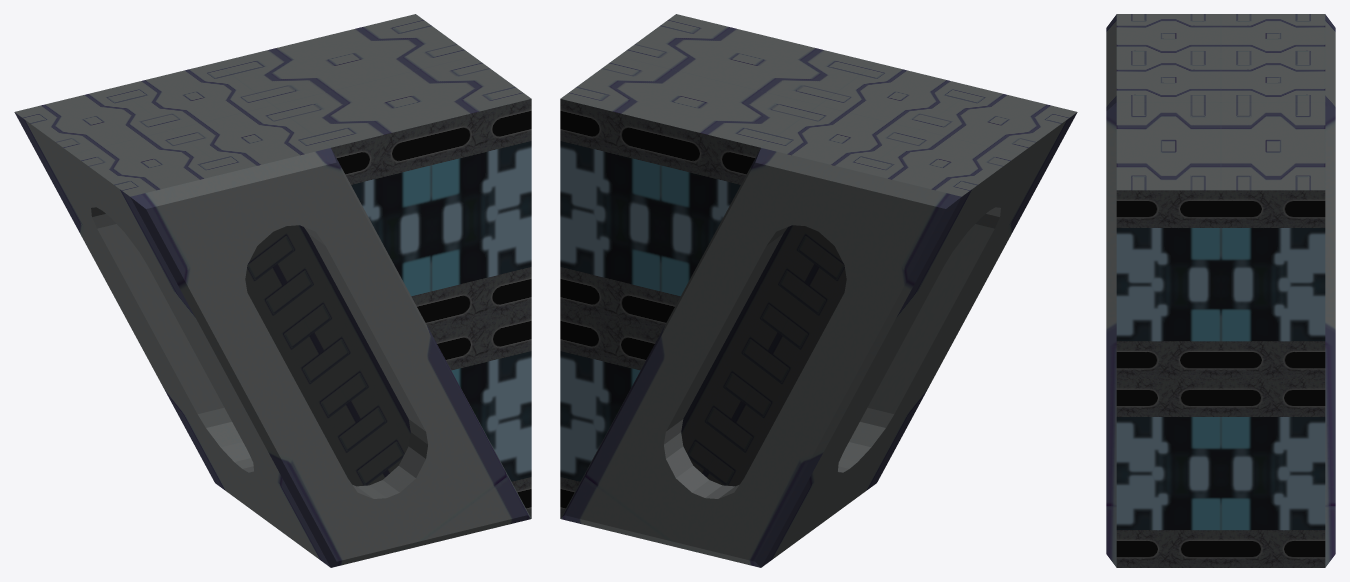
File: tiles_prison_door_frame_right_1.glb
The picture shows the model from 3 angles, left to right: view 1: azimuth 30°, elevation 25°; view 2: azimuth 150°, elevation 25°; view 3: azimuth 270°, elevation 25°; orthographic projection. The views are drawn at different scales.
Parts seen in each view (by area): view 1: PrisonDoorArchRight1; view 2: PrisonDoorArchRight1; view 3: PrisonDoorArchRight1.
Part boxes in pixels (x1,y1,x2,y2): PrisonDoorArchRight1: (14,14,531,567); PrisonDoorArchRight1: (560,14,1077,567); PrisonDoorArchRight1: (1106,14,1335,567).
Bounding box in the file's own units: 4 × 4 × 2.2.
Materials: 3 (3 with a texture image).
